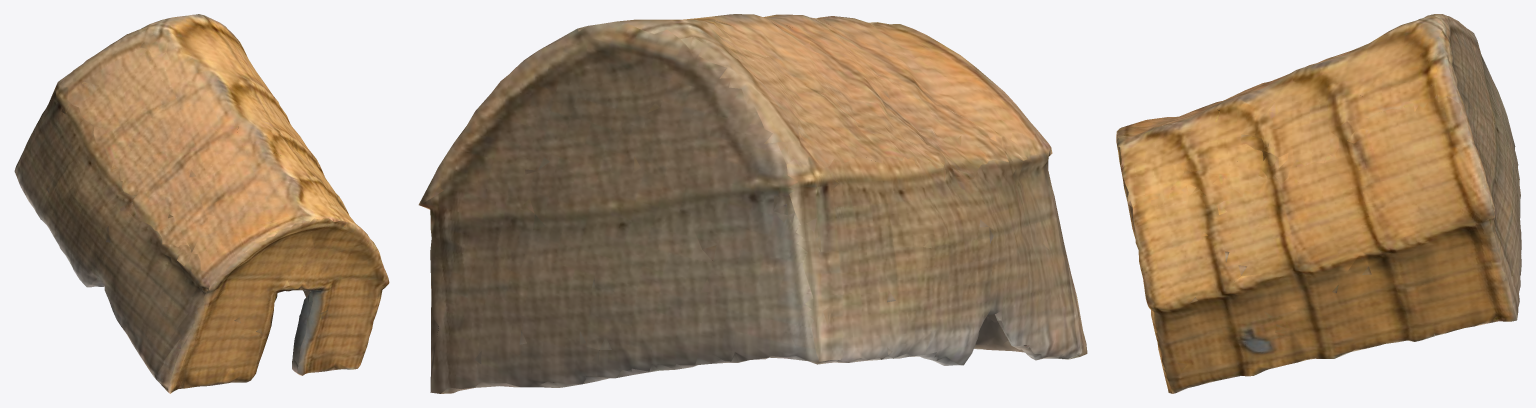
Rendered from reed-camp-sf3d.glb.
3 views of the same model, side by side, from view 1: azimuth 30°, elevation 25°; view 2: azimuth 150°, elevation 25°; view 3: azimuth 270°, elevation 25° (orthographic). The views are drawn at different scales.
Parts seen in each view (by area): view 1: camp-sf3d; view 2: camp-sf3d; view 3: camp-sf3d.
Boxes of the visible parts, bbox=[...] form: camp-sf3d: bbox=[14, 14, 389, 393]; camp-sf3d: bbox=[418, 14, 1087, 393]; camp-sf3d: bbox=[1116, 14, 1521, 393].
Size of the model in its own units: 2.88 by 3.15 by 3.55.
Materials: 1 (1 with a texture image).
